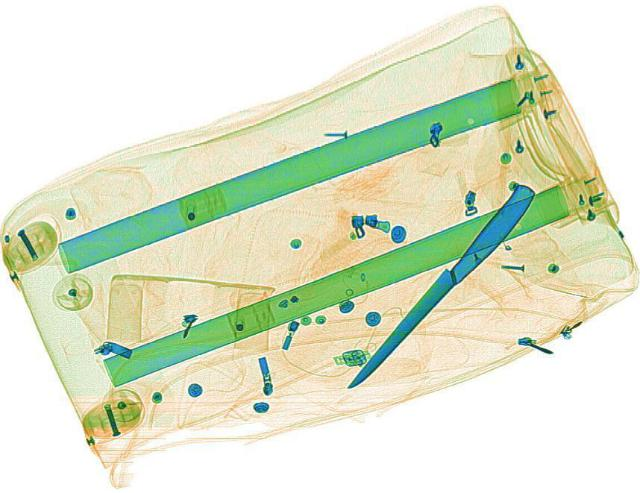Knife: (343, 181, 542, 394)
